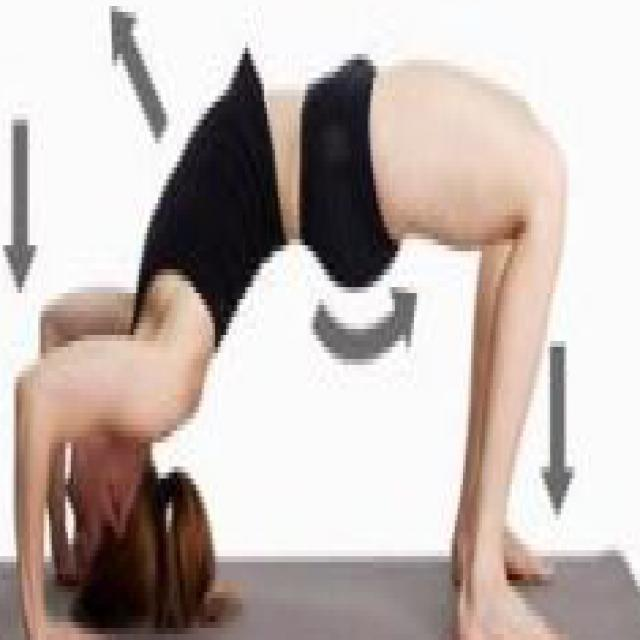yoga-pose bridge: (10, 57, 574, 640)
